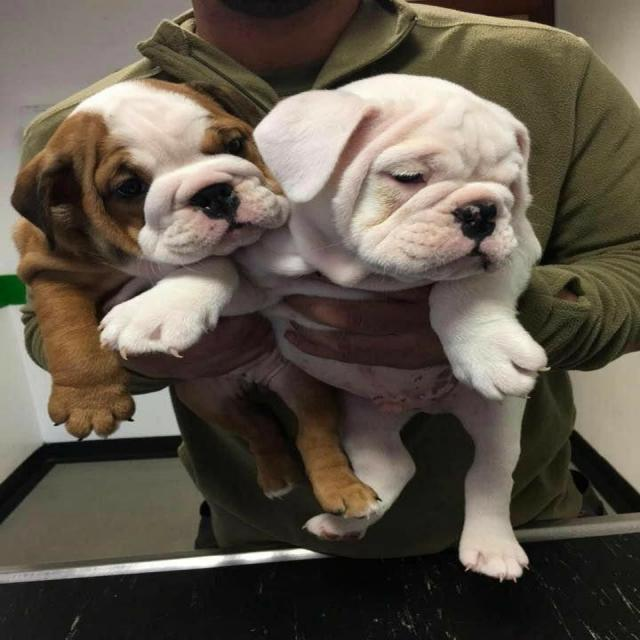Dogs: (93, 72, 540, 588), (9, 71, 382, 526)
